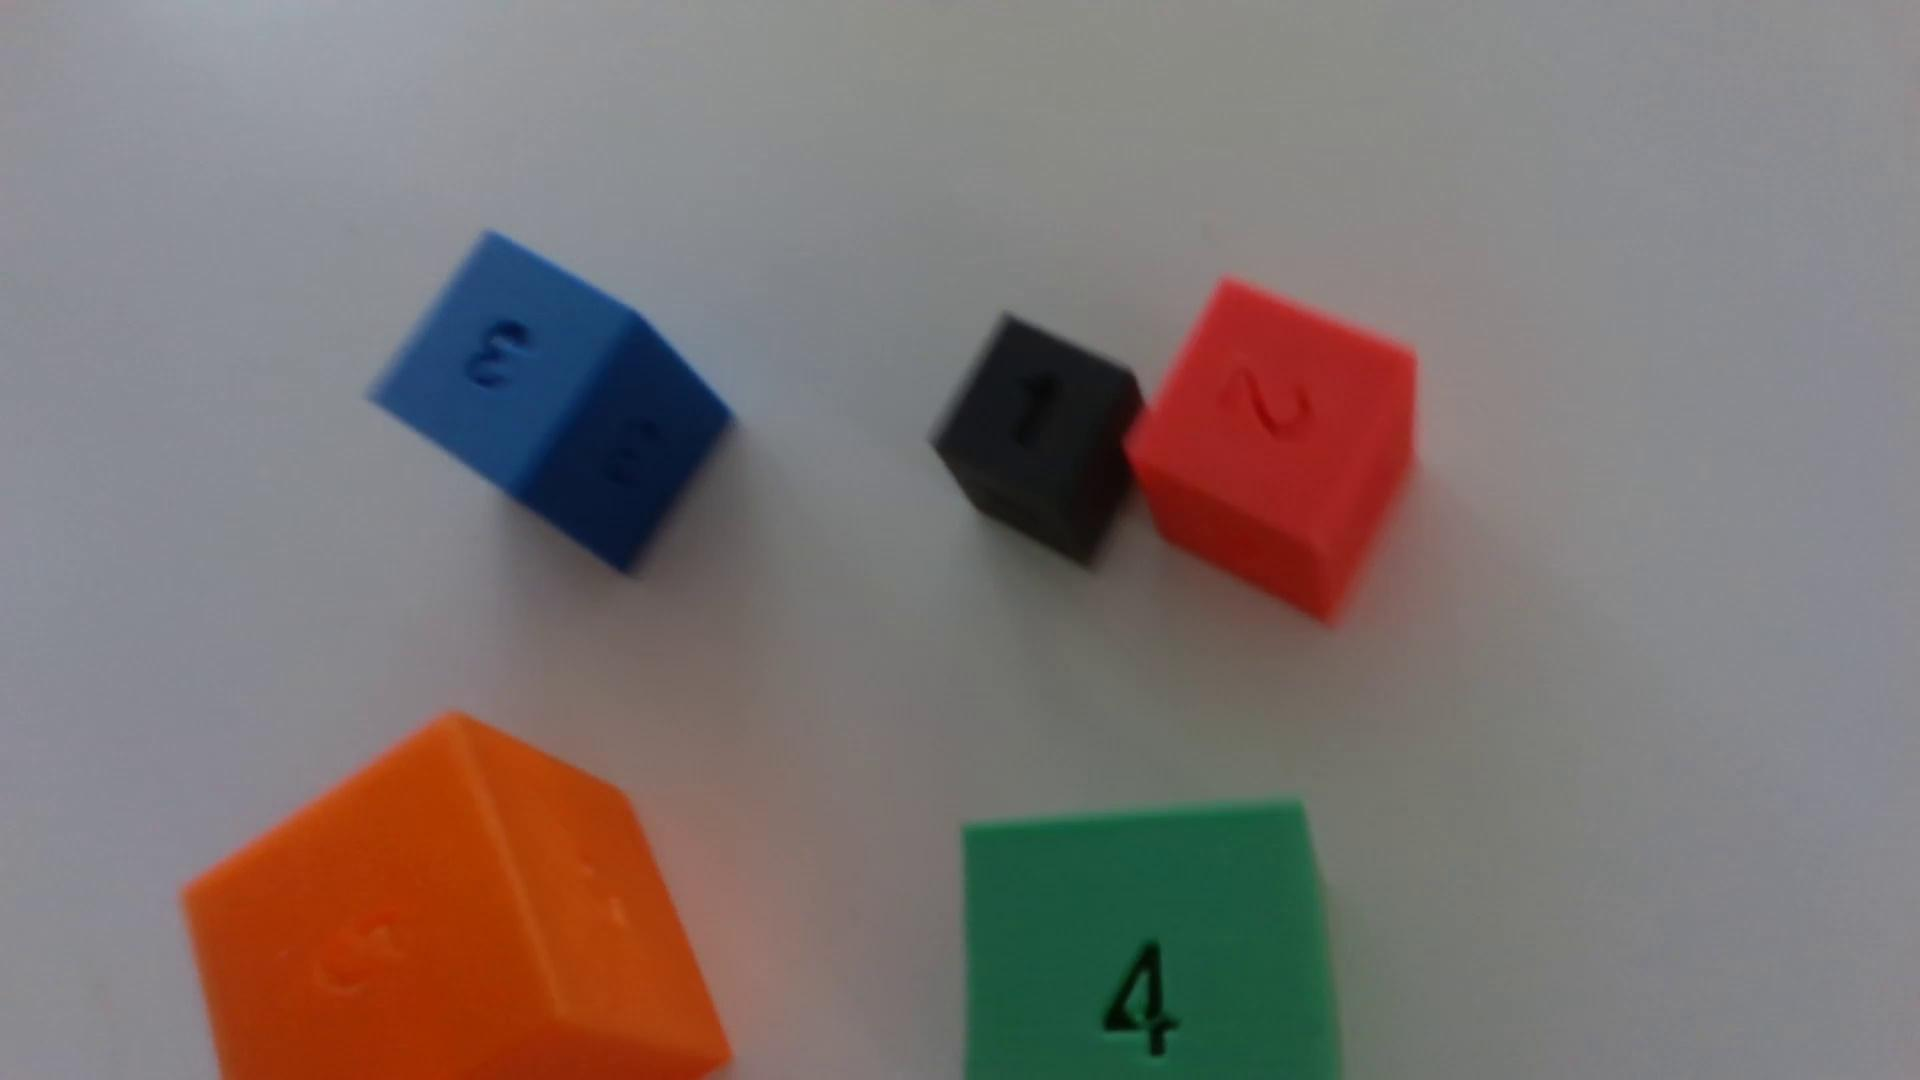black: (934, 316, 1142, 567)
blue: (371, 236, 731, 572)
green: (963, 802, 1341, 1080)
orange: (185, 715, 731, 1080)
red: (1127, 280, 1418, 622)
